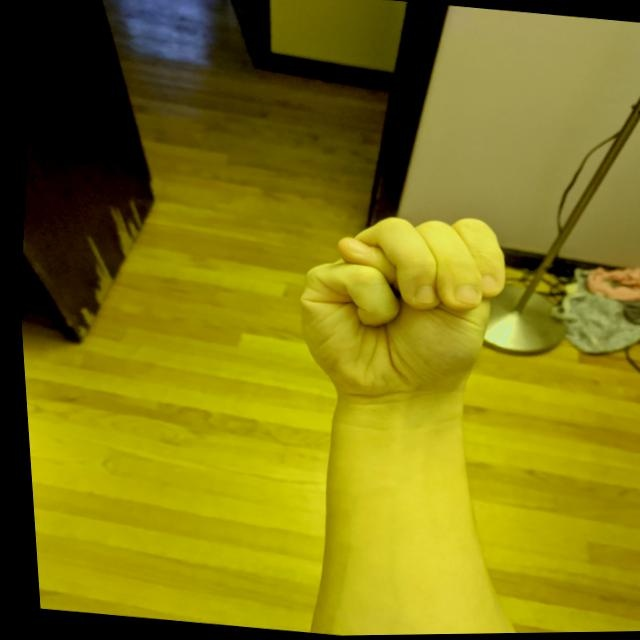M: (270, 192, 522, 418)
